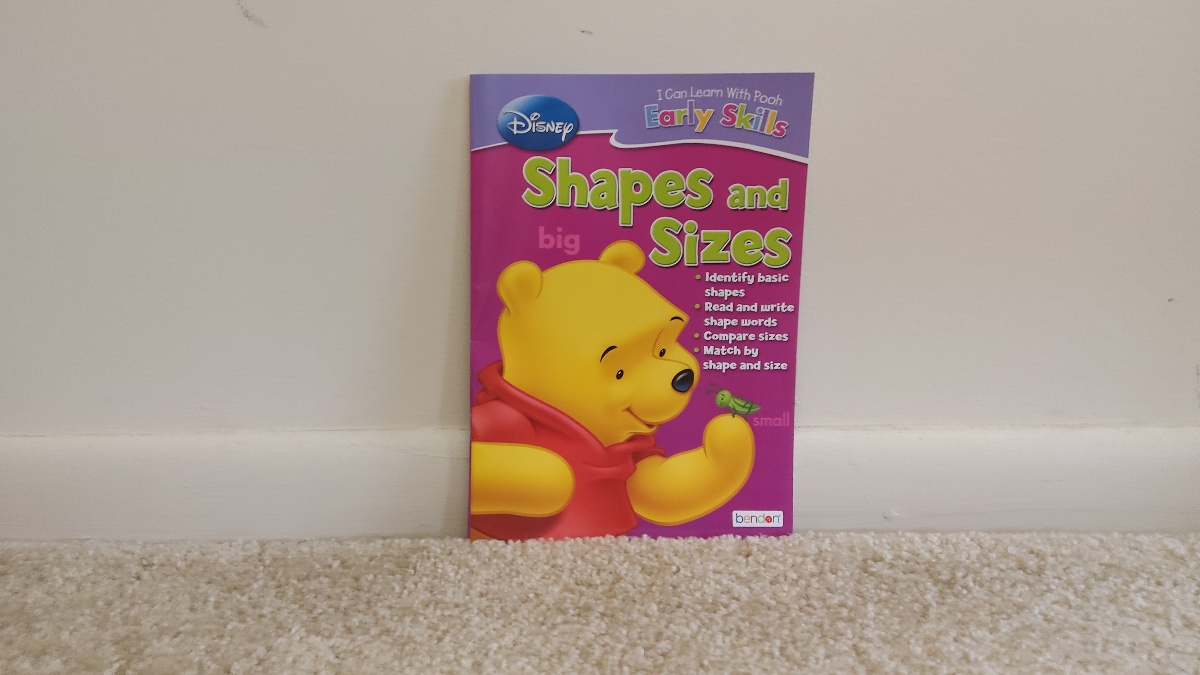book: (467, 76, 796, 536)
